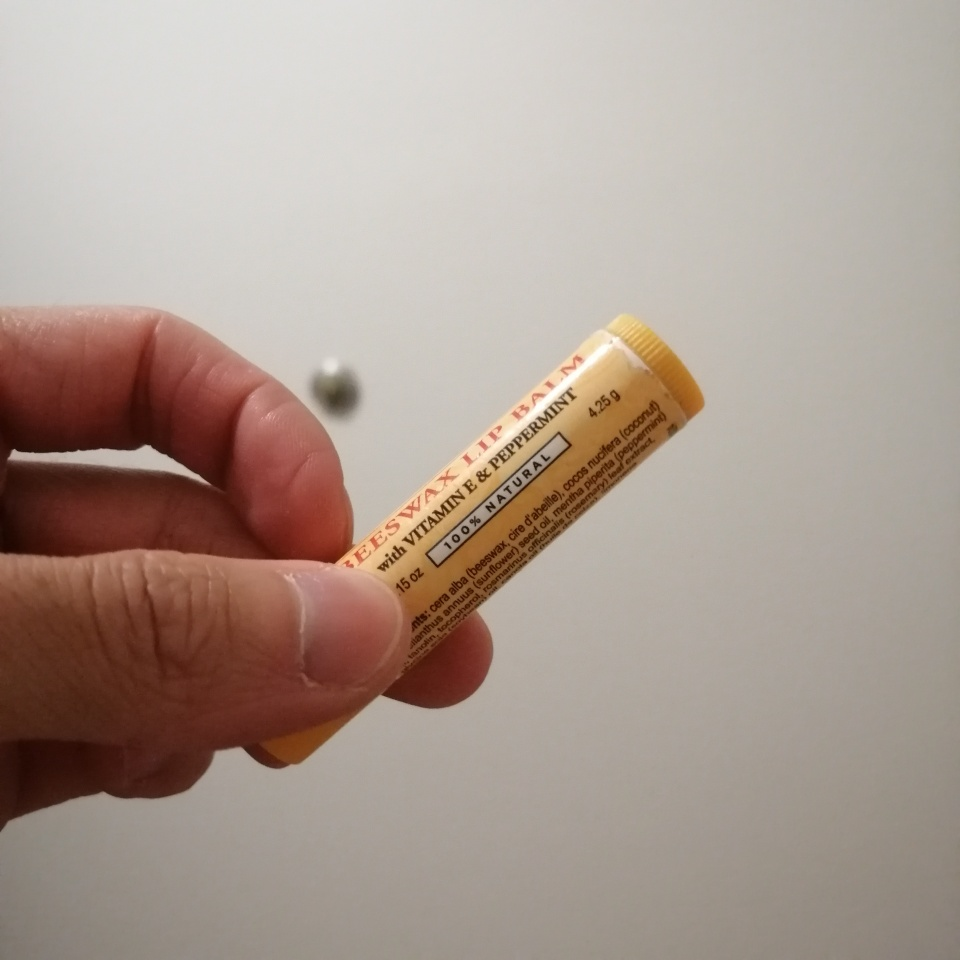chapstick: (257, 311, 710, 766)
